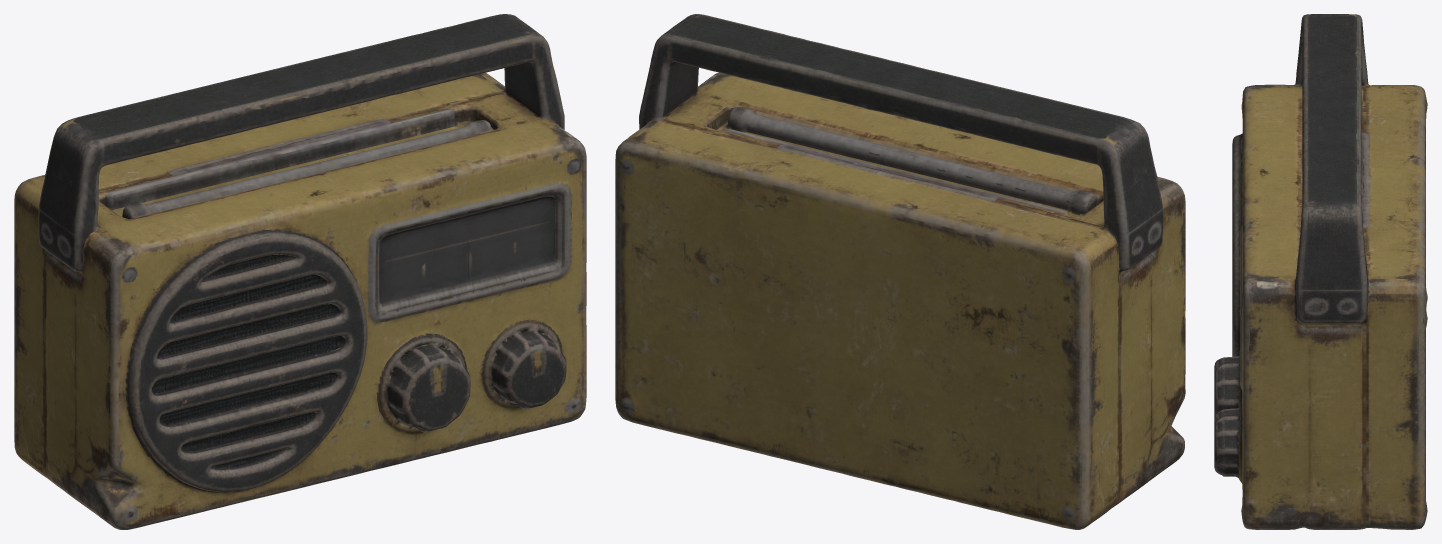
The model's file is raw.glb.
The picture shows the model from 3 angles, left to right: view 1: azimuth 30°, elevation 25°; view 2: azimuth 150°, elevation 25°; view 3: azimuth 270°, elevation 25°; orthographic projection. The views are drawn at different scales.
Size of the model in its own units: 1.01 by 0.7184 by 0.4289.
1 material, 1 textured.
